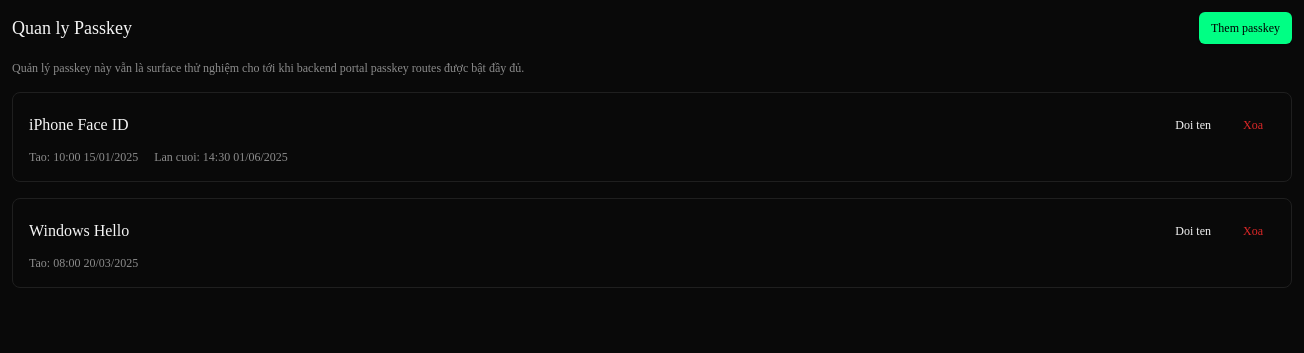
Test: PasskeyManagement › cancels delete when cancel button is clicked
Check: the text "iPhone Face ID" is shown, box [29, 113, 128, 137]
Click the button "Xoa" in the row of "iPhone Face ID" at (1253, 125), box [1231, 109, 1275, 141]
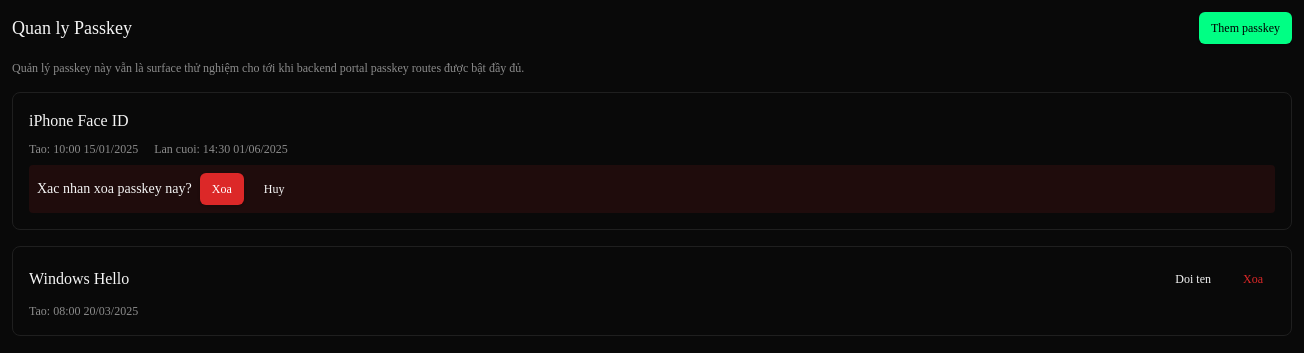
Check: the text "Xac nhan xoa passkey nay?" is shown, box [37, 179, 192, 199]
# Click "Huy" to cancel
Click the button "Huy" at (274, 189), box [252, 173, 296, 205]
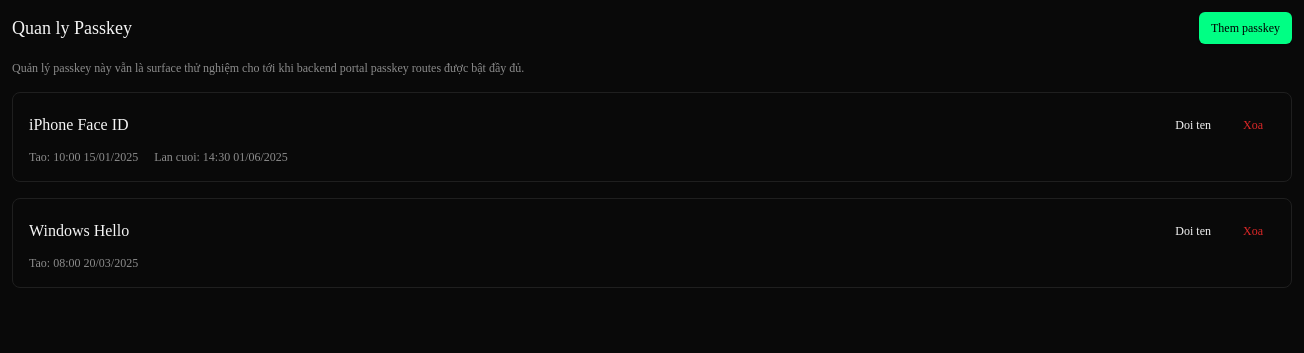
Check: the text "Xac nhan xoa" is gone
